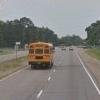Bus: (26, 37, 56, 71)
